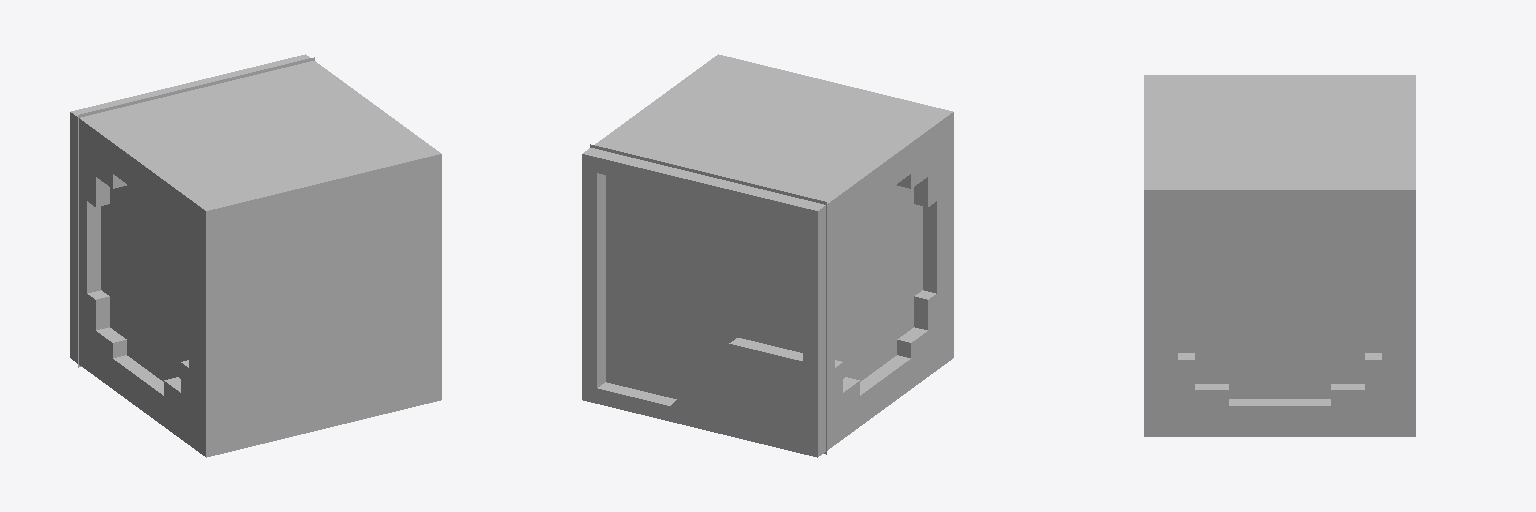
Rendered from replicator.obj.
3 renders of one model, left to right at view 1: azimuth 30°, elevation 25°; view 2: azimuth 150°, elevation 25°; view 3: azimuth 270°, elevation 25°, orthographic.
Parts seen in each view (by area): view 1: replicator; view 2: replicator; view 3: replicator.
Part boxes in pixels (left/top/right/bottom): replicator: left=70, top=54, right=441, bottom=457; replicator: left=582, top=54, right=953, bottom=457; replicator: left=1144, top=75, right=1415, bottom=436.
Size of the model in its own units: 1.01 by 1.03 by 1.